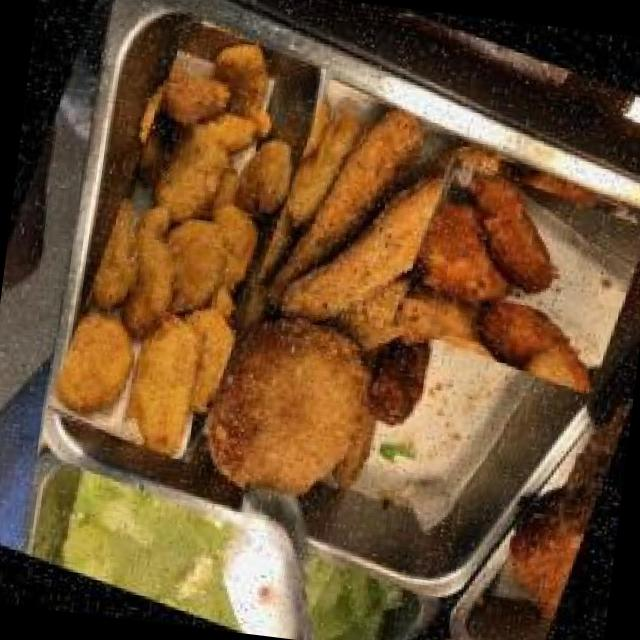chicken_nuggets: (40, 8, 337, 474)
triangle_hash_brown: (391, 145, 640, 405)
